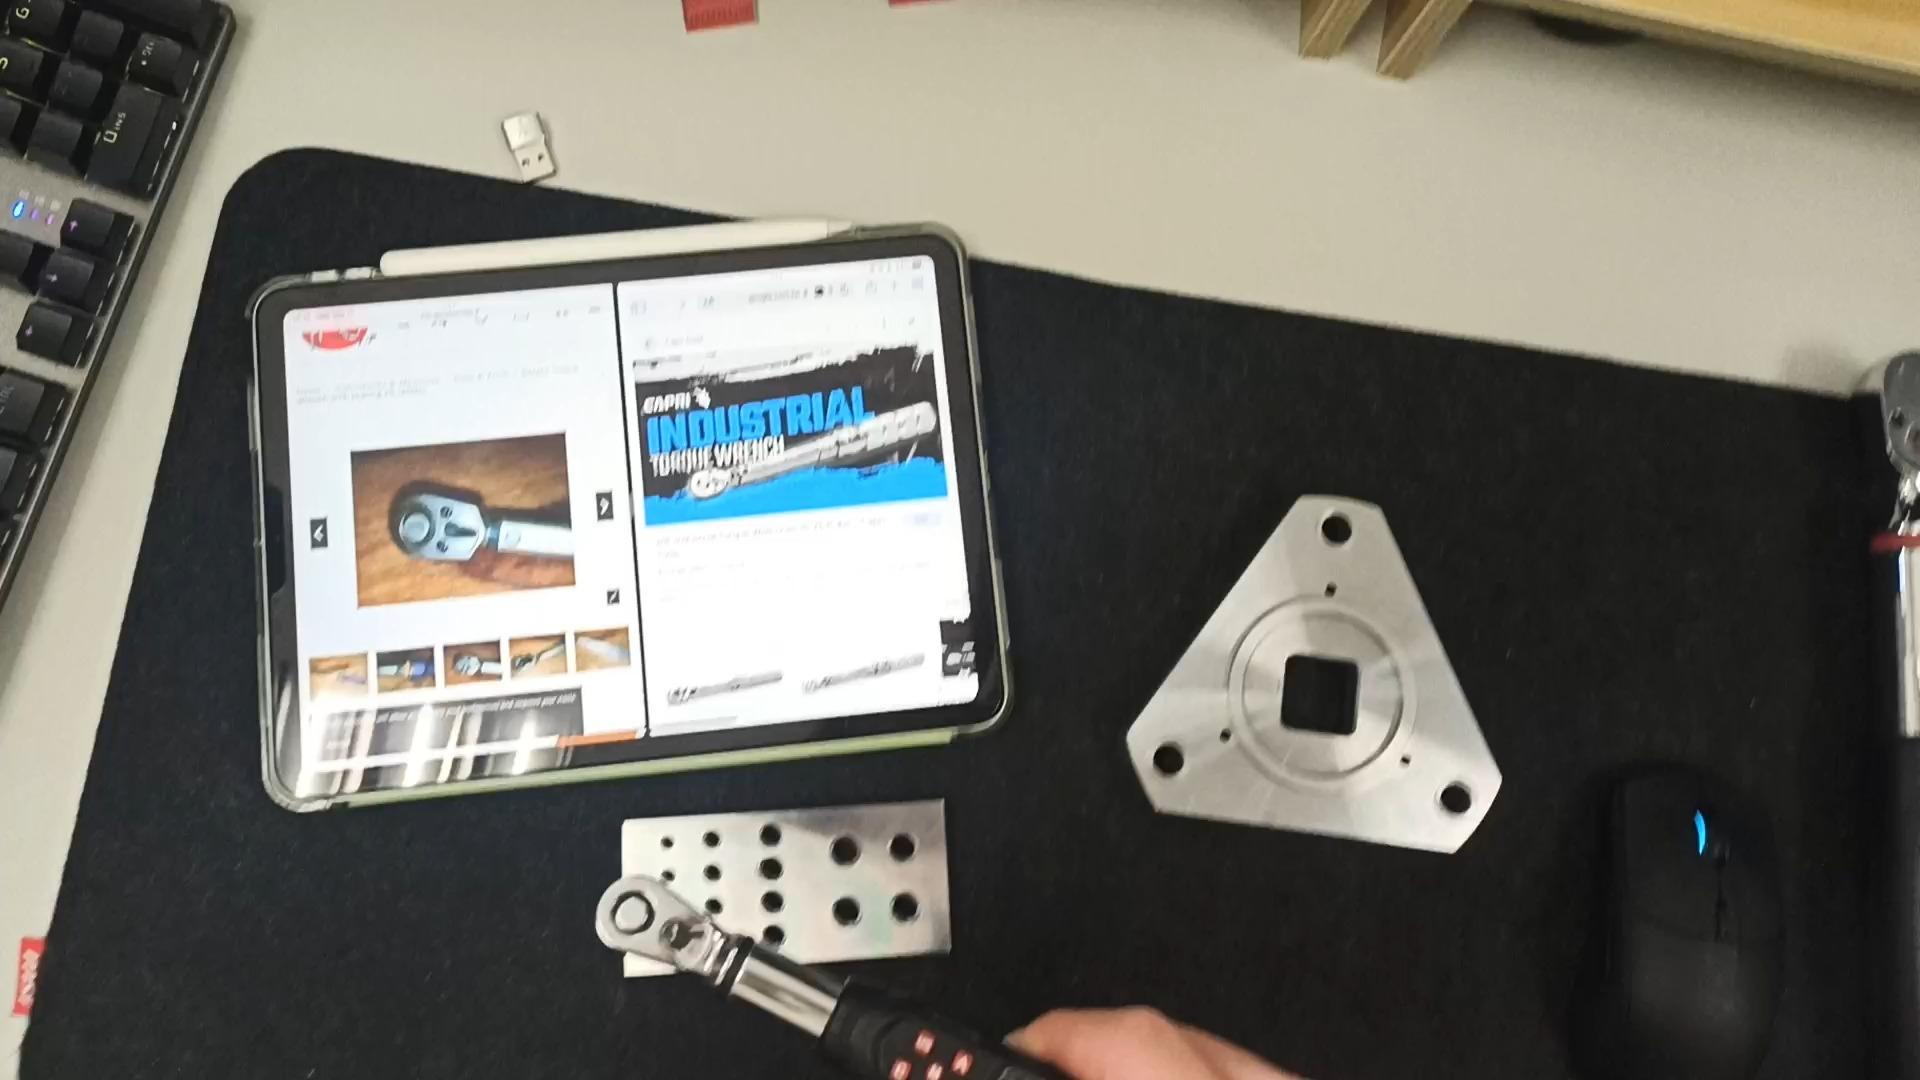Tool: (585, 869, 739, 977), (386, 486, 490, 567)
hole: (1302, 511, 1361, 556), (872, 890, 932, 932), (811, 894, 870, 935), (874, 828, 933, 868), (810, 831, 869, 869), (1150, 740, 1195, 786), (1433, 779, 1479, 821), (736, 923, 788, 953), (739, 856, 786, 884), (741, 895, 786, 923), (742, 821, 785, 846), (689, 863, 726, 885), (689, 826, 725, 847), (688, 892, 725, 912), (649, 835, 682, 855), (650, 865, 682, 884)
